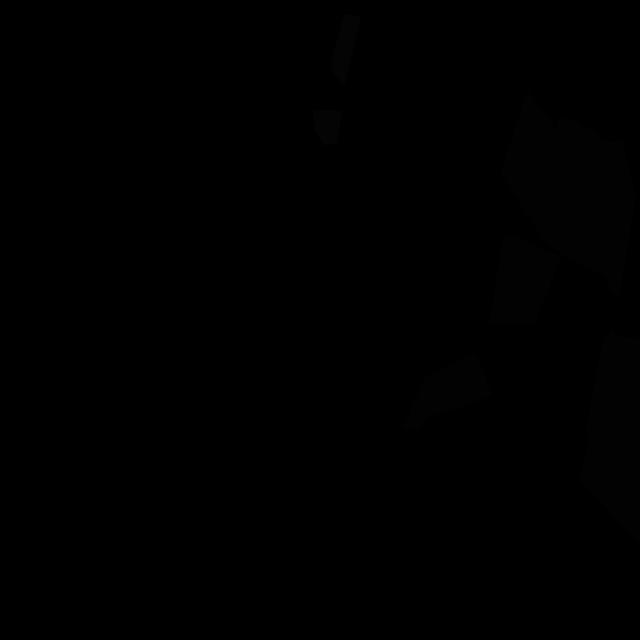cardboard: (500, 89, 636, 300), (579, 328, 640, 543), (402, 353, 493, 430), (489, 233, 562, 326)
soft_plastic: (331, 14, 361, 86), (313, 110, 342, 145)
